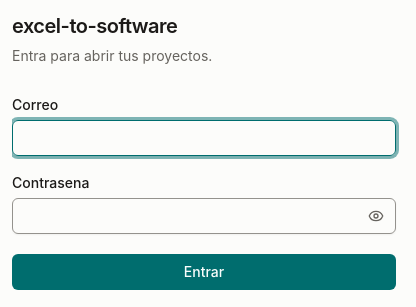
Scenario: V1 — Entrar › impide el doble envio mientras espera
This screenshot has width=416, height=307.
Type "ana@example.test" into the field labelled "Correo" at (204, 138), box [12,120,396,156]
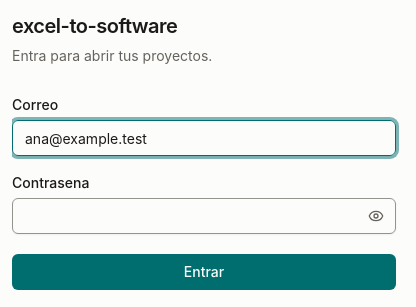
Type "secreta-larga" into the password field labelled "Contrasena" at (204, 216), box [12,198,396,234]
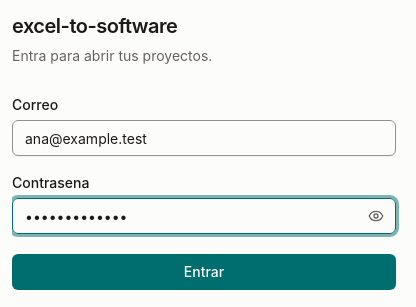
Click the button "Entrar" at (204, 272), box [12,254,396,290]
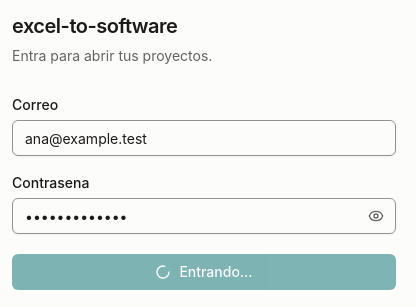
Now the button "Entrando..." is disabled, box [12,254,396,290]
